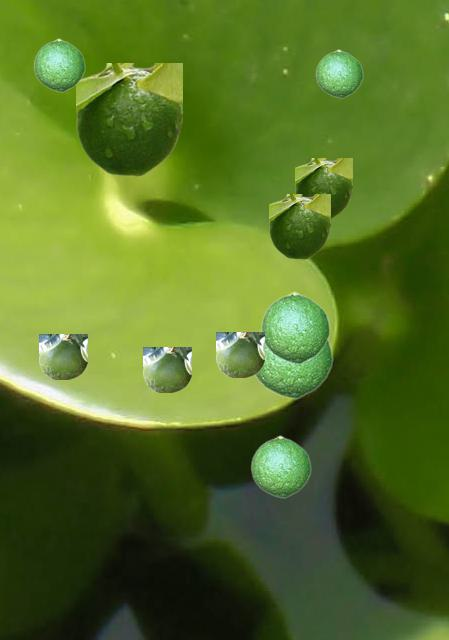dalandan: (76, 63, 181, 175), (254, 331, 332, 398), (260, 291, 329, 363), (269, 194, 329, 258), (250, 435, 310, 497), (295, 158, 351, 218), (33, 38, 84, 91), (315, 49, 362, 97), (39, 334, 86, 378), (143, 347, 190, 391), (216, 332, 263, 376)
